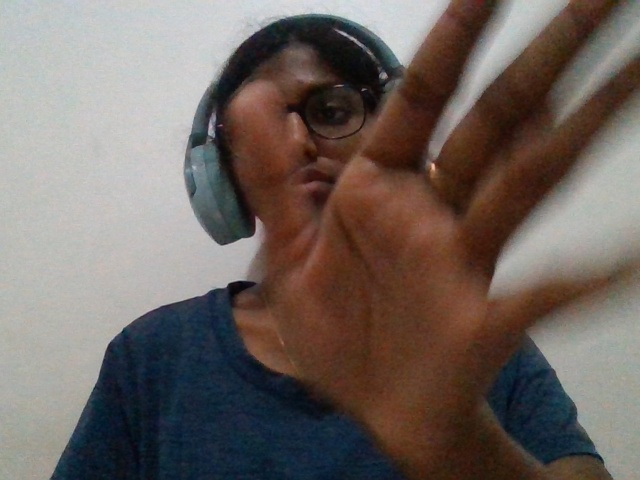Bye: (200, 1, 636, 480)
